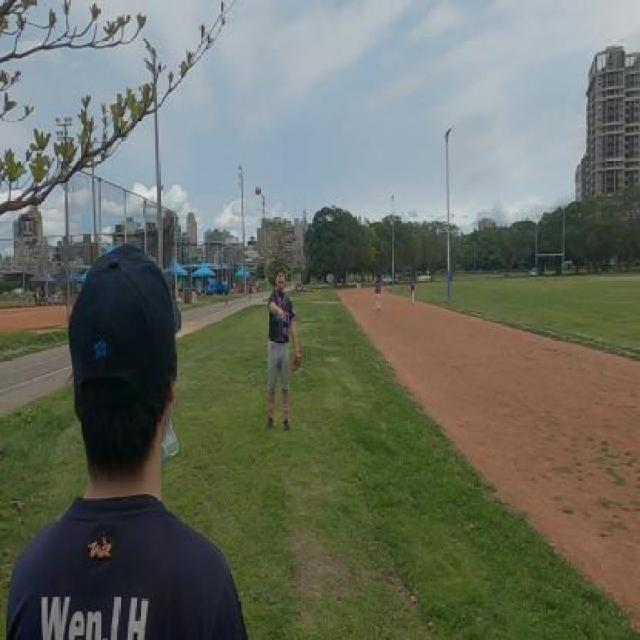baseball: (254, 183, 260, 194)
